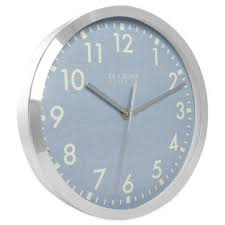alarm_clock: (13, 5, 208, 220), (13, 5, 207, 220), (21, 5, 207, 220)
